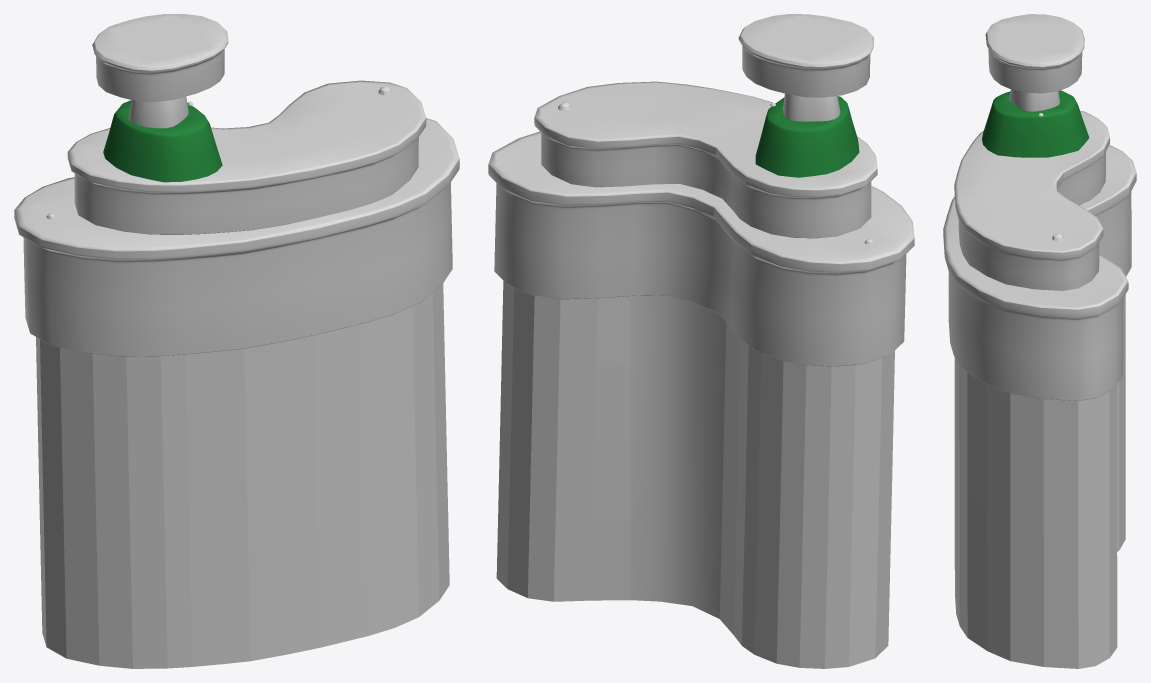
Rendered from island_L2.FBX.
3 renders of one model, left to right at view 1: azimuth 30°, elevation 25°; view 2: azimuth 150°, elevation 25°; view 3: azimuth 270°, elevation 25°, orthographic. The views are drawn at different scales.
Visible parts, largest first — view 1: Line039, Line040, Line032, Box053, Line038; view 2: Line039, Line040, Line032, Box053, Line038; view 3: Line039, Line040, Line032, Box053, Line038.
Part boxes in pixels (x1=…): Line039: x1=14, y1=118, x2=459, y2=668; Line040: x1=67, y1=80, x2=426, y2=234; Line032: x1=92, y1=14, x2=228, y2=102; Box053: x1=103, y1=100, x2=222, y2=182; Line038: x1=128, y1=96, x2=188, y2=128; Line039: x1=488, y1=131, x2=914, y2=668; Line040: x1=534, y1=81, x2=877, y2=238; Line032: x1=738, y1=14, x2=873, y2=97; Box053: x1=755, y1=96, x2=859, y2=177; Line038: x1=783, y1=93, x2=840, y2=121; Line039: x1=943, y1=145, x2=1136, y2=668; Line040: x1=954, y1=110, x2=1110, y2=290; Line032: x1=985, y1=14, x2=1084, y2=93; Box053: x1=982, y1=90, x2=1089, y2=157; Line038: x1=1009, y1=89, x2=1059, y2=111.
Bounding box in the file's own units: 5415 × 7422 × 2552.
